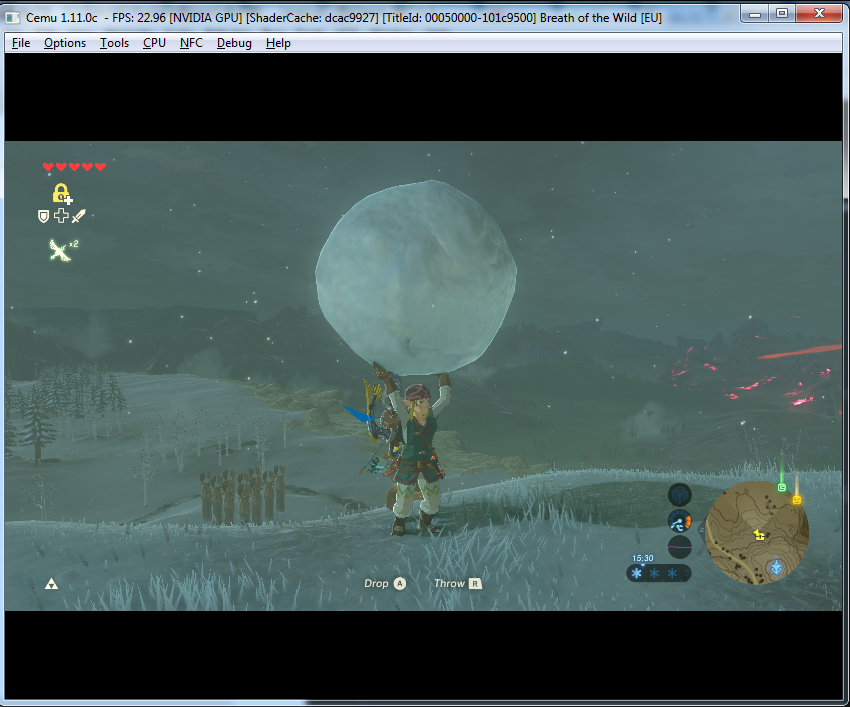link: (356, 361, 471, 542)
snowball: (311, 176, 528, 377)
